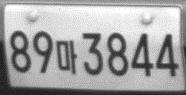3: (81, 32, 103, 76)
4: (153, 33, 180, 77), (130, 31, 154, 78)
8: (106, 31, 128, 77), (10, 30, 31, 73)
9: (33, 31, 53, 73)
마: (55, 39, 77, 75)
